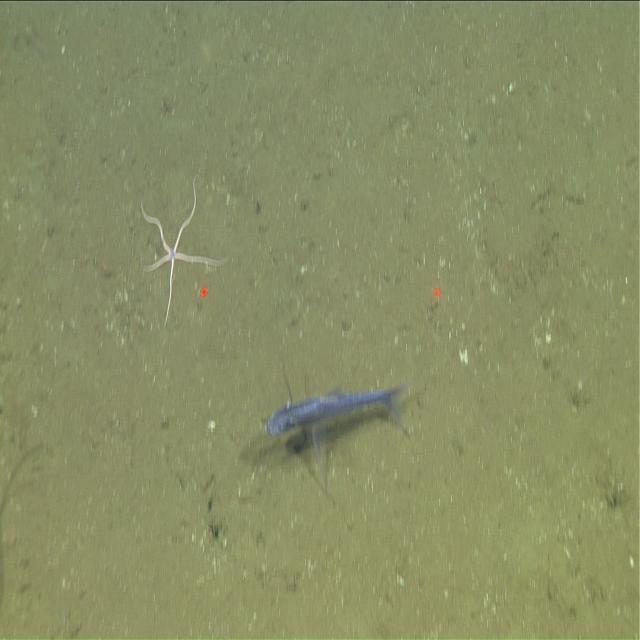Brittle Star: (138, 174, 229, 330)
